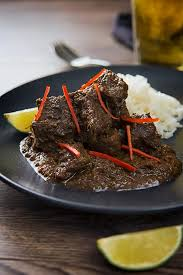rendang: (2, 51, 183, 200)
